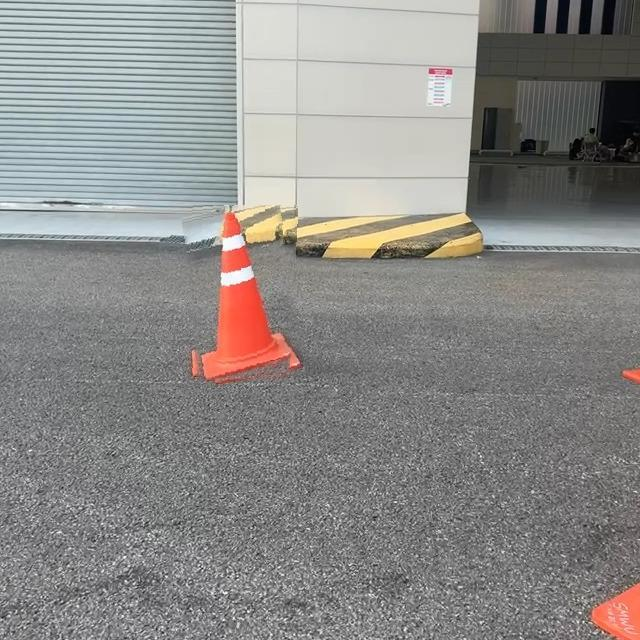fallen_object: (152, 205, 321, 423)
